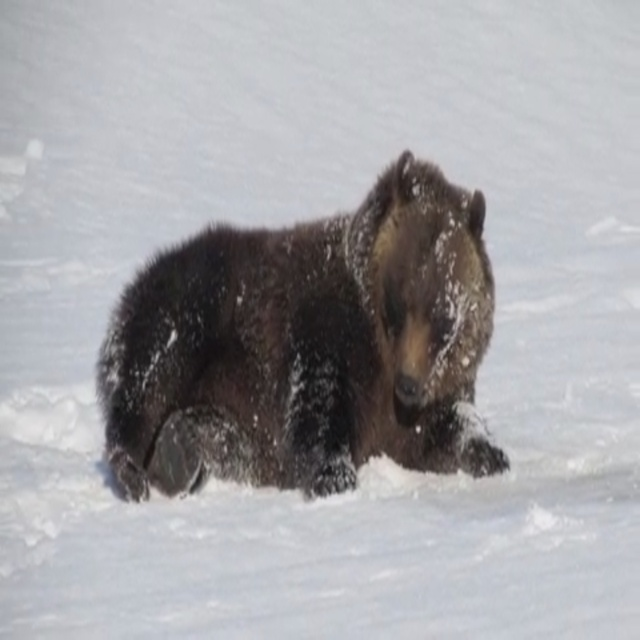Bear: (93, 148, 508, 508)
